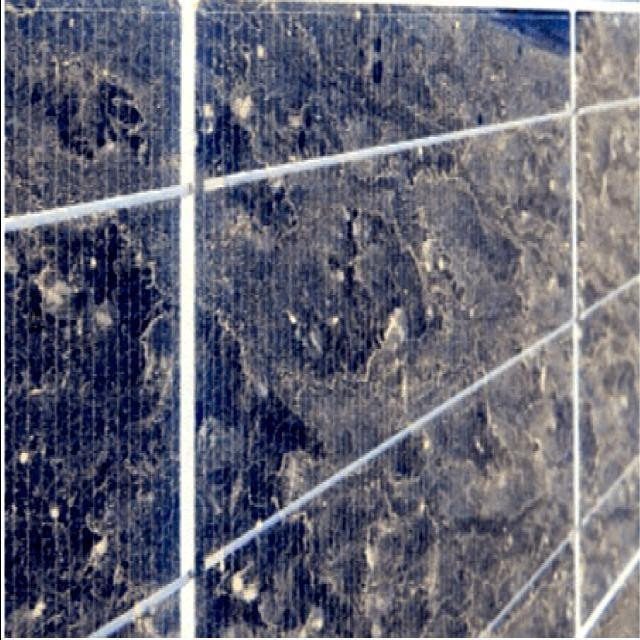soiled: (0, 11, 637, 639)
